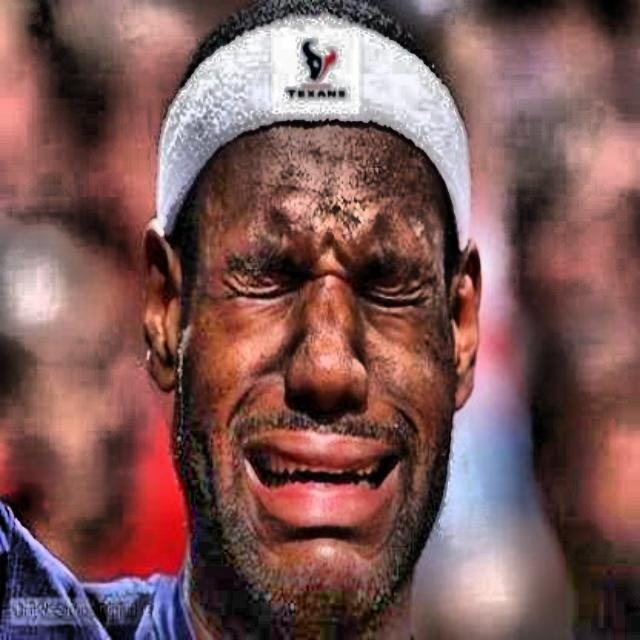sad: (140, 5, 492, 625)
